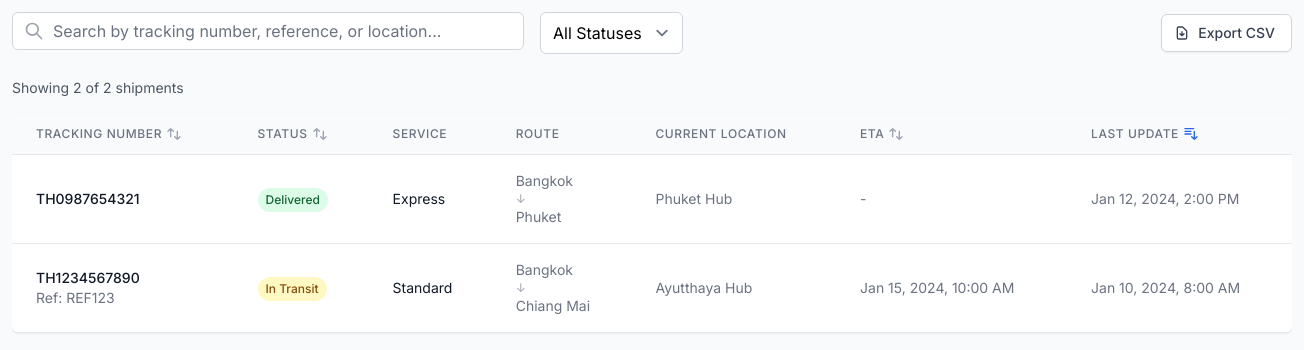
Scenario: BulkView › filters shipments by status
This screenshot has width=1304, height=350.
Select "Delivered" in the dropdown showing "All Statuses" at (612, 33), box [540,12,683,54]
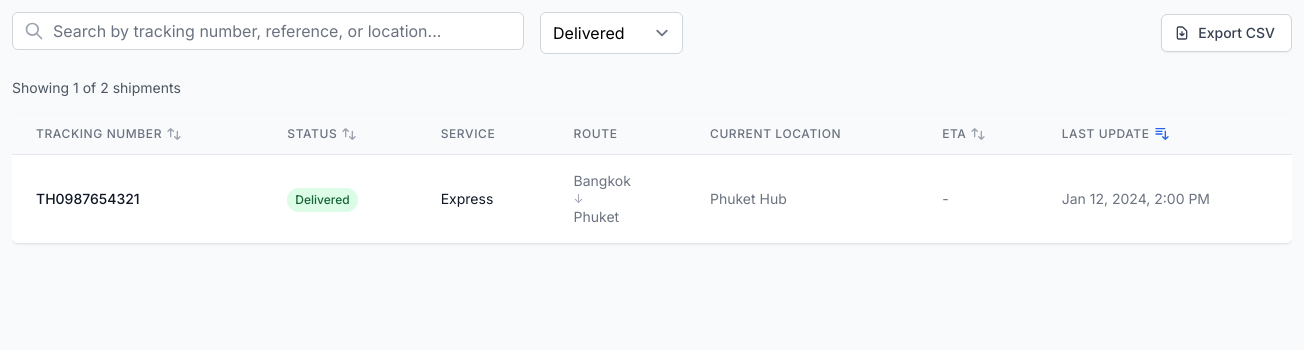
Expected: the text "TH0987654321" is shown, [36,190,140,207]
Expected: the text "TH1234567890" is gone
